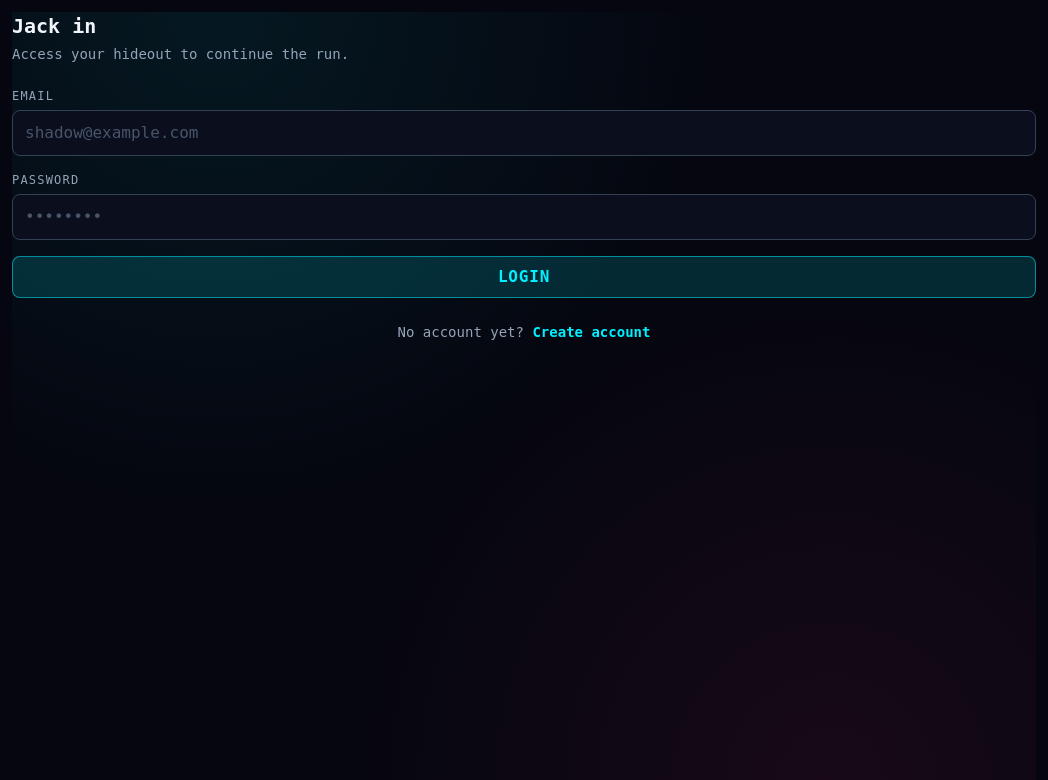
Test case: LoginPage › surfaces field-level validation errors returned by the API
In the field labelled "Email": (524,133) [12, 110, 1036, 156], type "nope"
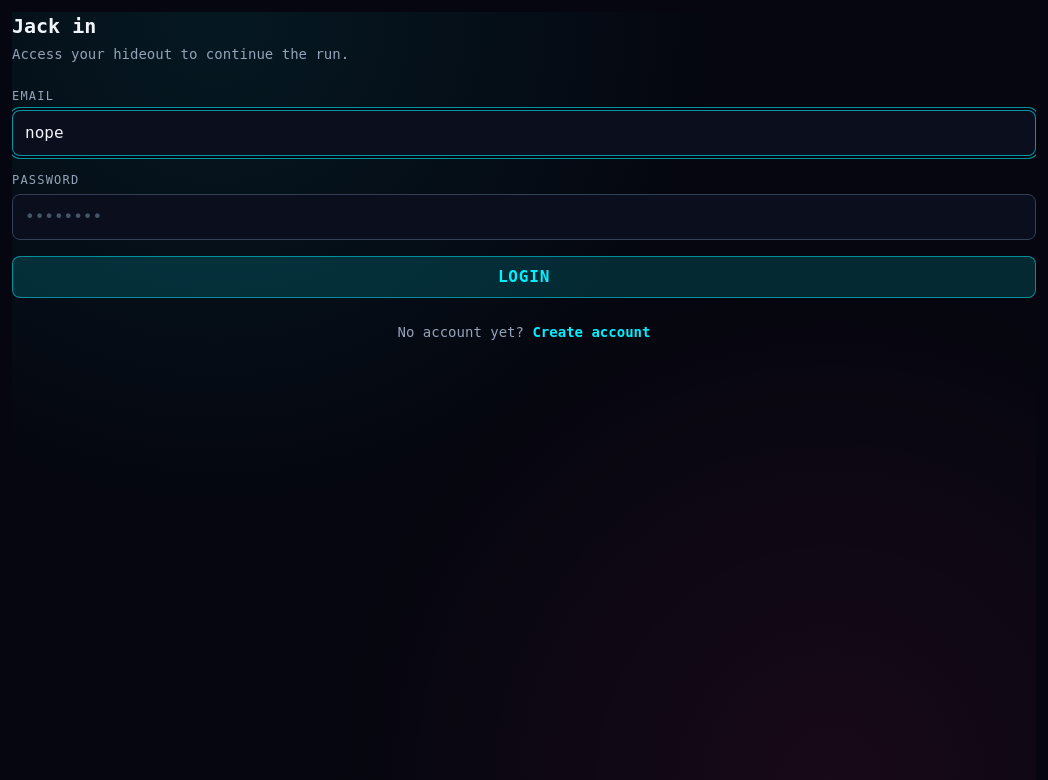
In the password field labelled "Password": (524,217) [12, 194, 1036, 240], type "Str0ng!Passw0rd"
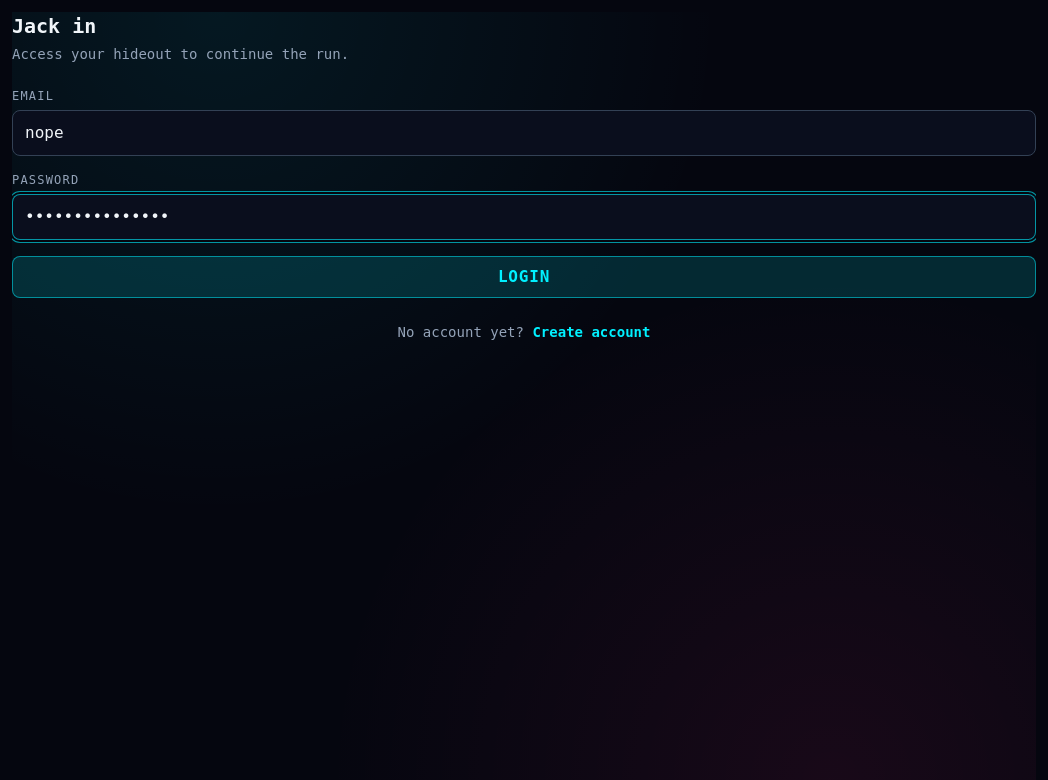
Click the button "Login": (524,277) [12, 256, 1036, 298]
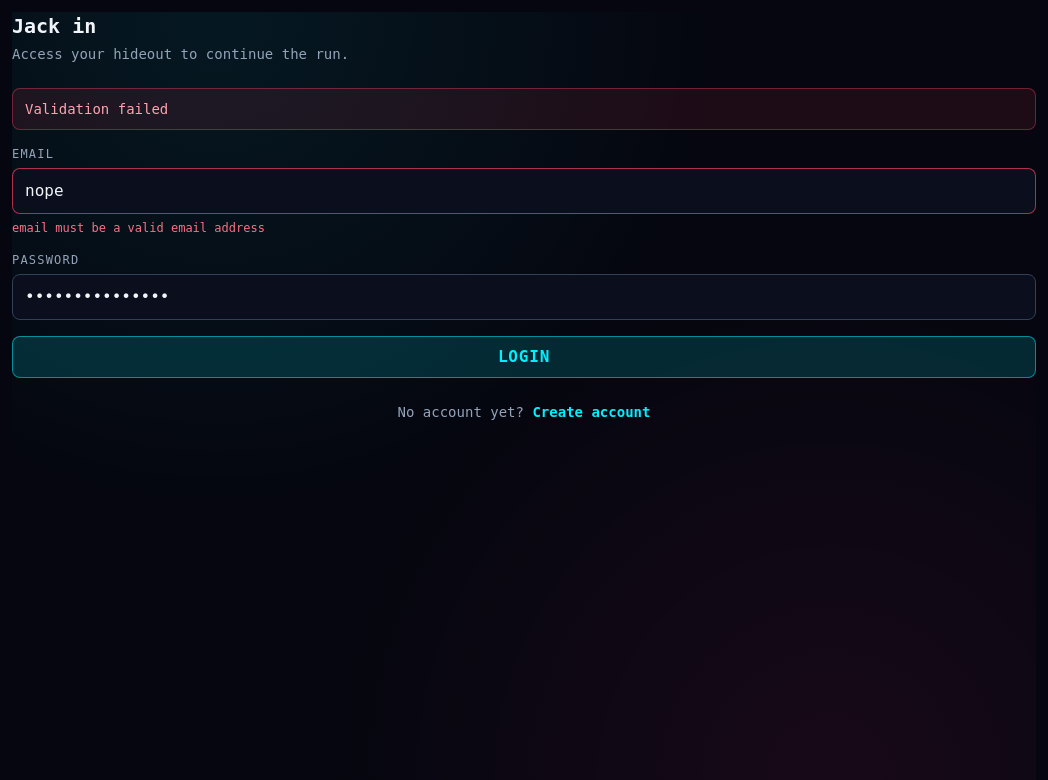
Check: the text "email must be a valid email address" is shown, box [12, 221, 265, 235]
